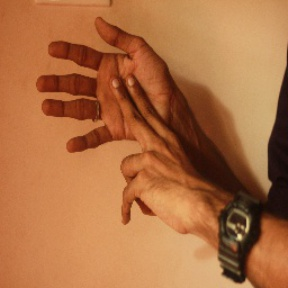N: (34, 14, 193, 230)
